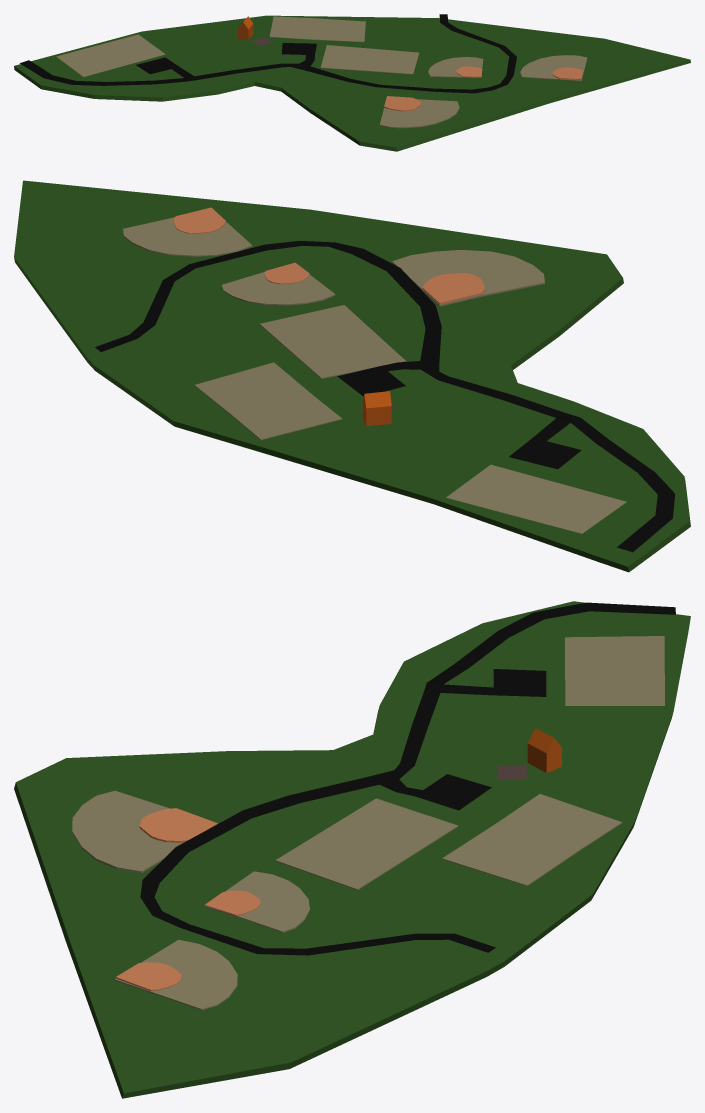
File: intbroadneckpark.glb
3 renders of one model, top to bottom at view 1: azimuth 30°, elevation 25°; view 2: azimuth 150°, elevation 25°; view 3: azimuth 270°, elevation 25°, orthographic. The views are drawn at different scales.
Parts seen in each view (by area): view 1: BroadneckPark.003; view 2: BroadneckPark.003; view 3: BroadneckPark.003.
Boxes of the visible parts, box(x1,y1,x2,y2) form: BroadneckPark.003: box(14, 14, 690, 151); BroadneckPark.003: box(14, 180, 690, 572); BroadneckPark.003: box(14, 601, 690, 1098).
Bounding box in the file's own units: 1.08 × 0.0847 × 0.6587.
